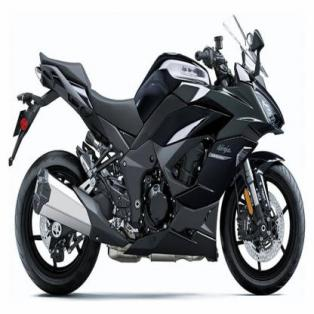Motocicleta: (9, 14, 305, 298)
